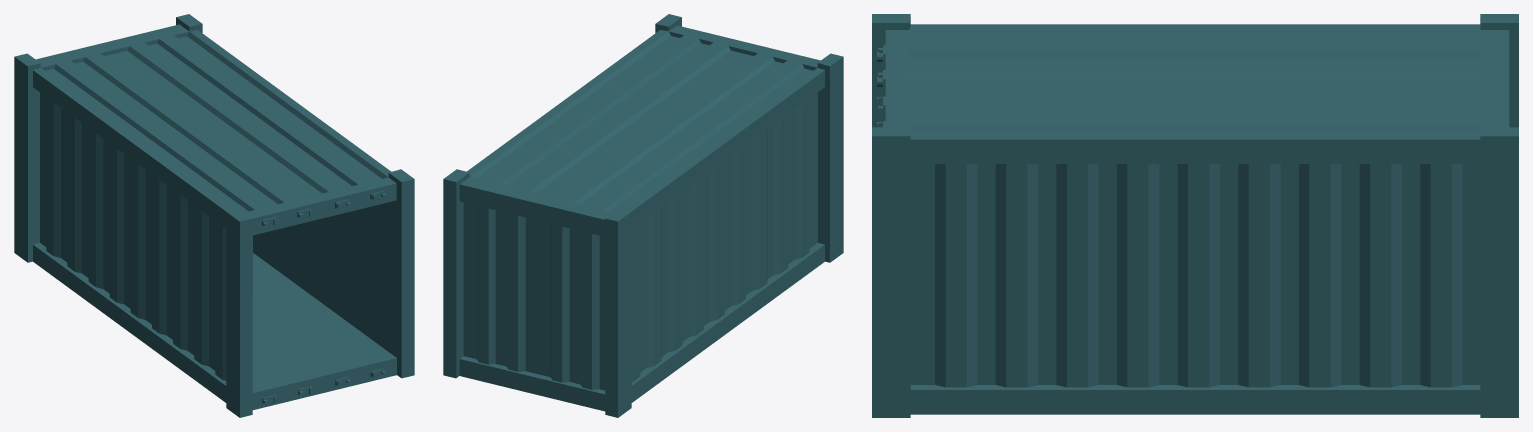
File: mesh_ShippingContainer_v2.fbx
The picture shows the model from 3 angles, left to right: view 1: azimuth 30°, elevation 25°; view 2: azimuth 150°, elevation 25°; view 3: azimuth 270°, elevation 25°; orthographic projection. The views are drawn at different scales.
Parts seen in each view (by area): view 1: mesh_ShippingContainer_v2_0; view 2: mesh_ShippingContainer_v2_0; view 3: mesh_ShippingContainer_v2_0.
Part boxes in pixels (left/top/right/bottom): mesh_ShippingContainer_v2_0: left=14, top=14, right=414, bottom=417; mesh_ShippingContainer_v2_0: left=443, top=14, right=843, bottom=417; mesh_ShippingContainer_v2_0: left=872, top=14, right=1518, bottom=417.
Bounding box in the file's own units: 194 × 208 × 433.
